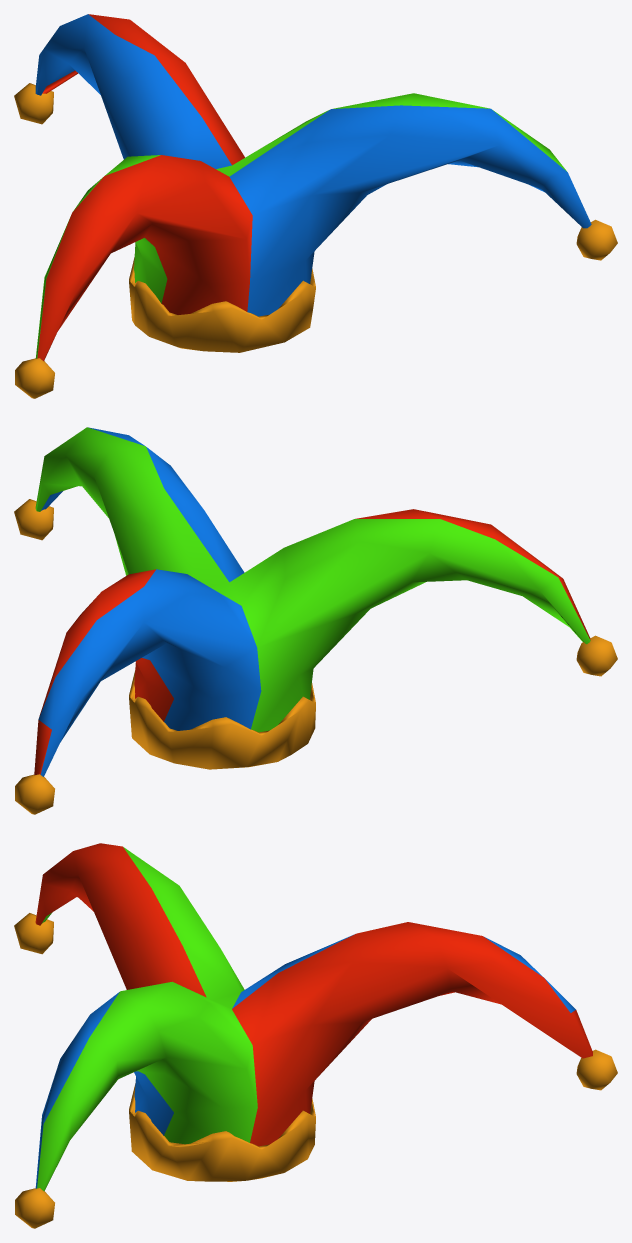
File: Clown .fbx
3 renders of one model, top to bottom at view 1: azimuth 30°, elevation 25°; view 2: azimuth 150°, elevation 25°; view 3: azimuth 270°, elevation 25°, orthographic.
Visible parts, largest first — view 1: NurbsPath.002, NurbsPath.001, Sphere.002, Sphere, Sphere.001; view 2: NurbsPath.002, NurbsPath.001, Sphere.001, Sphere.002, Sphere; view 3: NurbsPath.002, NurbsPath.001, Sphere, Sphere.001, Sphere.002.
Boxes of the visible parts, bbox=[...] form: NurbsPath.002: bbox=[35, 14, 591, 360]; NurbsPath.001: bbox=[129, 257, 315, 352]; Sphere.002: bbox=[15, 358, 54, 398]; Sphere: bbox=[576, 219, 617, 260]; Sphere.001: bbox=[14, 83, 53, 124]; NurbsPath.002: bbox=[34, 427, 590, 776]; NurbsPath.001: bbox=[129, 670, 315, 769]; Sphere.001: bbox=[15, 774, 54, 814]; Sphere.002: bbox=[576, 635, 617, 676]; Sphere: bbox=[14, 499, 53, 540]; NurbsPath.002: bbox=[35, 843, 592, 1191]; NurbsPath.001: bbox=[129, 1083, 315, 1181]; Sphere: bbox=[15, 1188, 54, 1228]; Sphere.001: bbox=[576, 1049, 617, 1090]; Sphere.002: bbox=[14, 913, 53, 954].
Size of the model in its own units: 1112 by 387 by 976.
